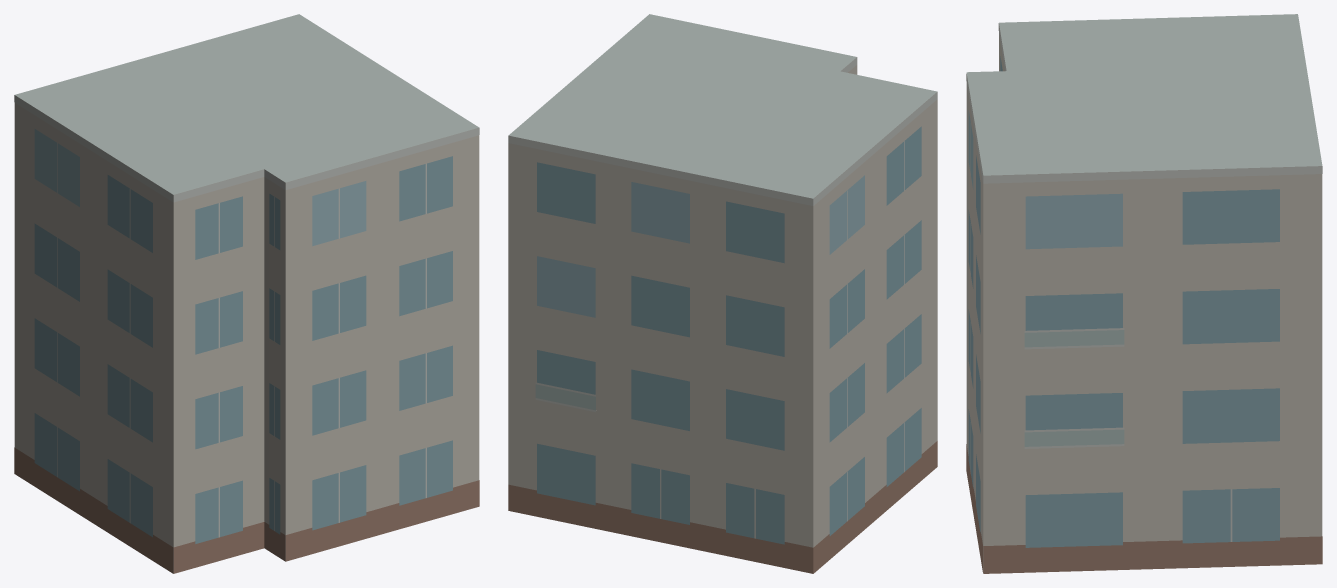
File: residential-3dea9eac-6a9a-4c61-89f7-a110371f60e2.glb
The picture shows the model from 3 angles, left to right: view 1: azimuth 30°, elevation 25°; view 2: azimuth 150°, elevation 25°; view 3: azimuth 270°, elevation 25°; orthographic projection. The views are drawn at different scales.
Visible parts, largest first — view 1: residential-3dea9eac-6a9a-4c61-89f7-a110371f60e2.tmp; view 2: residential-3dea9eac-6a9a-4c61-89f7-a110371f60e2.tmp; view 3: residential-3dea9eac-6a9a-4c61-89f7-a110371f60e2.tmp.
Boxes of the visible parts, left/top/right/bottom form: residential-3dea9eac-6a9a-4c61-89f7-a110371f60e2.tmp: left=14, top=14, right=479, bottom=573; residential-3dea9eac-6a9a-4c61-89f7-a110371f60e2.tmp: left=508, top=14, right=937, bottom=573; residential-3dea9eac-6a9a-4c61-89f7-a110371f60e2.tmp: left=966, top=14, right=1322, bottom=573.
Bounding box in the file's own units: 10.63 × 12.2 × 9.9.
